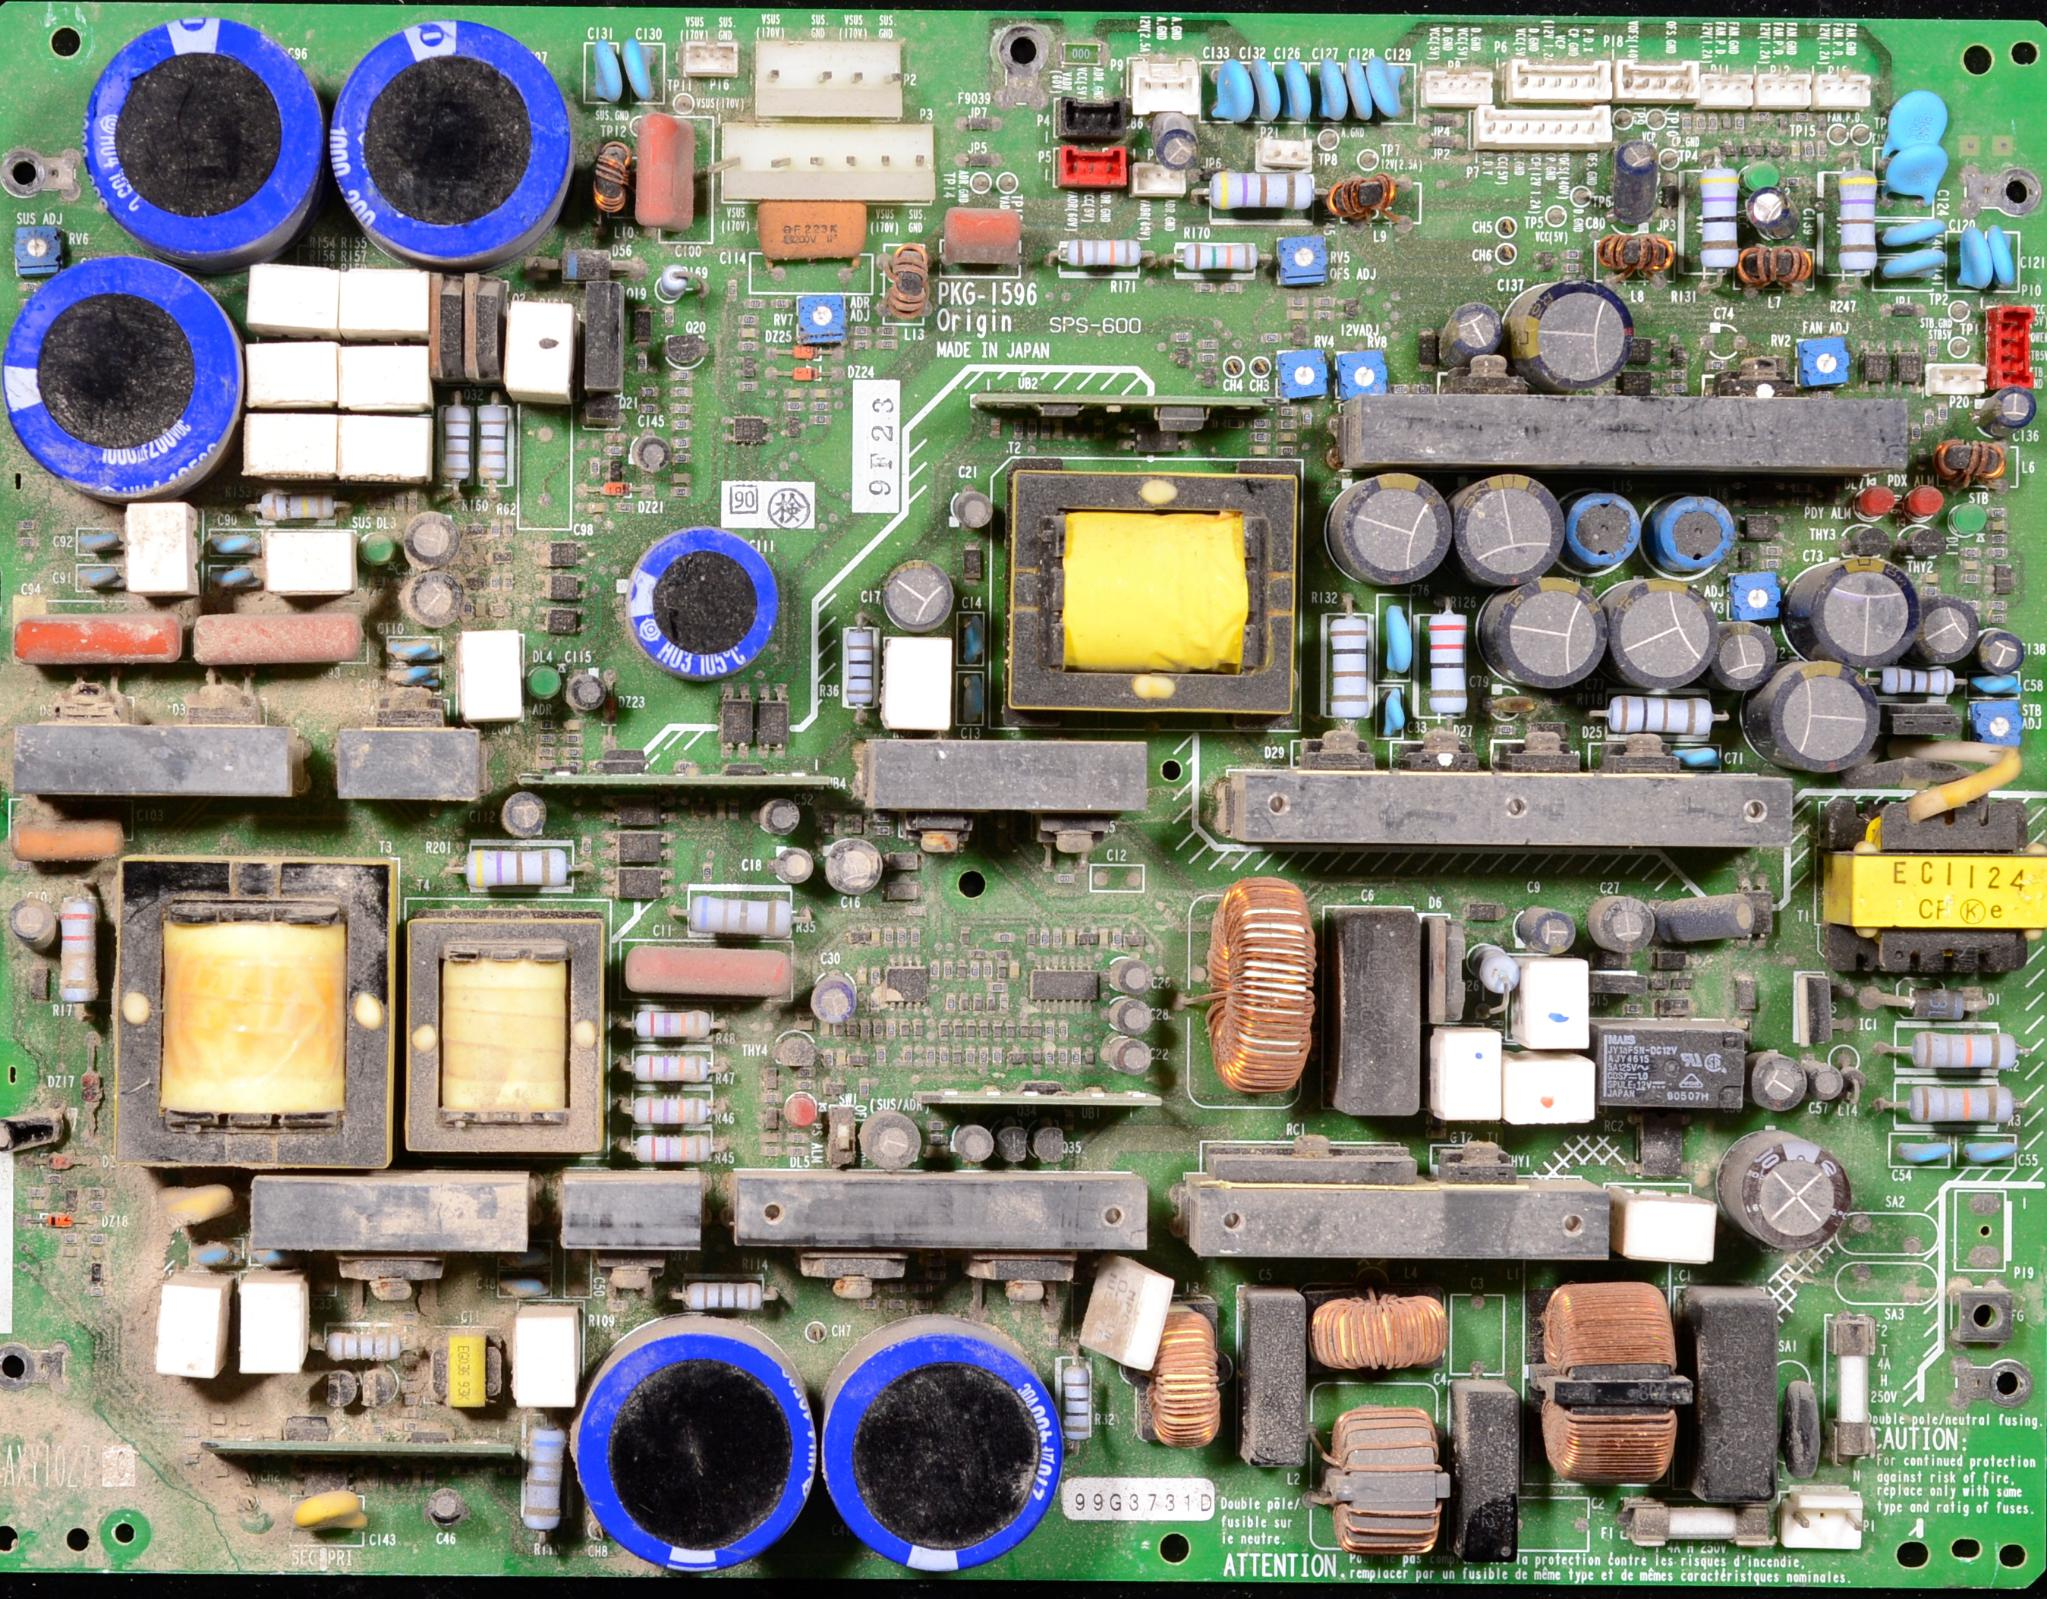Capacitor Jumper: (1736, 1132, 1848, 1260), (1449, 469, 1562, 587), (1512, 289, 1625, 394), (1331, 479, 1451, 577), (1497, 577, 1602, 688), (189, 608, 372, 670), (17, 613, 188, 678), (1804, 558, 1906, 665), (1605, 583, 1713, 683), (1775, 660, 1878, 761), (633, 110, 708, 246), (754, 196, 866, 279), (5, 819, 116, 876), (934, 206, 1022, 269), (1916, 598, 1989, 673), (1706, 618, 1775, 690), (1668, 891, 1756, 944), (399, 565, 469, 628), (884, 563, 947, 632), (1879, 143, 1947, 201), (1755, 1049, 1809, 1117), (289, 1491, 371, 1536), (158, 1180, 231, 1230), (1615, 141, 1665, 214), (859, 1115, 922, 1170), (1884, 91, 1947, 146), (1148, 106, 1205, 166), (1590, 899, 1655, 951), (1379, 595, 1419, 678), (402, 517, 460, 573), (1362, 53, 1411, 120), (826, 841, 886, 894), (1339, 58, 1384, 128), (618, 37, 663, 105), (582, 35, 625, 101), (1210, 55, 1251, 123), (1876, 214, 1952, 251), (1879, 246, 1947, 286), (1745, 189, 1804, 234), (1522, 906, 1577, 954), (1246, 57, 1284, 123), (502, 791, 552, 839), (7, 896, 56, 944), (1279, 58, 1314, 125), (1447, 303, 1497, 349), (76, 558, 135, 598), (384, 660, 457, 691), (1961, 228, 1995, 293), (1889, 1137, 1961, 1168), (1982, 387, 2032, 432), (387, 628, 440, 670), (1316, 61, 1349, 126), (567, 672, 611, 718), (1989, 226, 2019, 294), (1981, 628, 2025, 672), (203, 565, 263, 597), (1112, 1031, 1148, 1082), (1969, 668, 2025, 701), (630, 432, 670, 477), (1961, 1135, 2017, 1167), (768, 788, 803, 838), (1112, 992, 1155, 1032), (204, 527, 254, 560), (816, 981, 852, 1026), (188, 1235, 239, 1267), (952, 487, 987, 532), (68, 529, 123, 557), (1379, 680, 1406, 738), (954, 1124, 995, 1160), (425, 1486, 462, 1523), (1112, 957, 1151, 989), (527, 663, 562, 698), (1671, 741, 1720, 765), (1814, 1059, 1843, 1097), (241, 1247, 284, 1272)
Resistor Jumper: (623, 944, 794, 1002), (1881, 1026, 2024, 1075), (1894, 1074, 2019, 1124), (1421, 605, 1472, 720), (1607, 688, 1720, 736), (520, 1418, 565, 1539), (462, 843, 570, 891), (1831, 170, 1881, 273), (1693, 166, 1741, 271), (55, 891, 98, 1004), (688, 891, 806, 929), (1210, 170, 1318, 208), (626, 1037, 714, 1082), (1055, 1358, 1098, 1444), (626, 1084, 709, 1129), (475, 401, 517, 490), (626, 1130, 723, 1168), (1470, 941, 1530, 997), (439, 402, 475, 490), (258, 487, 341, 525), (626, 1006, 718, 1036), (319, 1333, 399, 1366), (1883, 665, 1954, 700), (683, 1282, 764, 1311), (1062, 236, 1141, 266), (1178, 241, 1261, 269), (656, 264, 690, 293)
